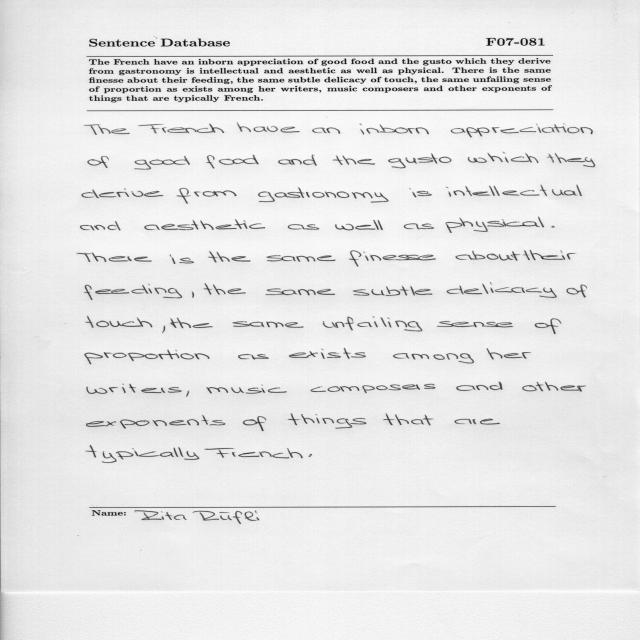word: (258, 187, 388, 203), (86, 445, 199, 463), (451, 124, 593, 138), (87, 415, 226, 428), (447, 282, 557, 298), (85, 350, 210, 364), (446, 185, 582, 197), (446, 217, 545, 233), (84, 284, 182, 300), (323, 317, 422, 332), (349, 250, 436, 267), (144, 219, 265, 230), (288, 414, 366, 429), (311, 384, 436, 393), (204, 448, 303, 458), (177, 188, 237, 204), (87, 384, 182, 394), (388, 154, 452, 168), (393, 353, 474, 364), (138, 124, 224, 134), (289, 348, 366, 359), (82, 188, 163, 198), (86, 316, 153, 328), (353, 286, 432, 296), (359, 124, 429, 135), (468, 152, 538, 163), (77, 252, 152, 262), (206, 155, 259, 169), (206, 385, 287, 394), (134, 156, 190, 169), (547, 153, 596, 167), (455, 251, 520, 261), (522, 382, 586, 392), (237, 123, 300, 133), (383, 414, 434, 426), (523, 250, 576, 260), (487, 348, 531, 360), (203, 283, 246, 295), (84, 124, 130, 135), (209, 251, 251, 263), (232, 321, 304, 328), (267, 255, 336, 262), (266, 289, 335, 296), (335, 220, 383, 230), (170, 318, 213, 329), (437, 321, 513, 327), (535, 318, 562, 334), (278, 155, 317, 166), (333, 155, 375, 165), (457, 382, 503, 391), (80, 221, 121, 231), (243, 416, 266, 431), (454, 419, 500, 425), (566, 285, 587, 298), (88, 156, 109, 168), (170, 254, 194, 264), (409, 189, 432, 198), (312, 127, 340, 134), (288, 224, 320, 230), (238, 354, 269, 360), (404, 224, 434, 230), (162, 325, 165, 333), (187, 391, 190, 397), (192, 291, 194, 298), (309, 454, 312, 457), (551, 226, 555, 228)
